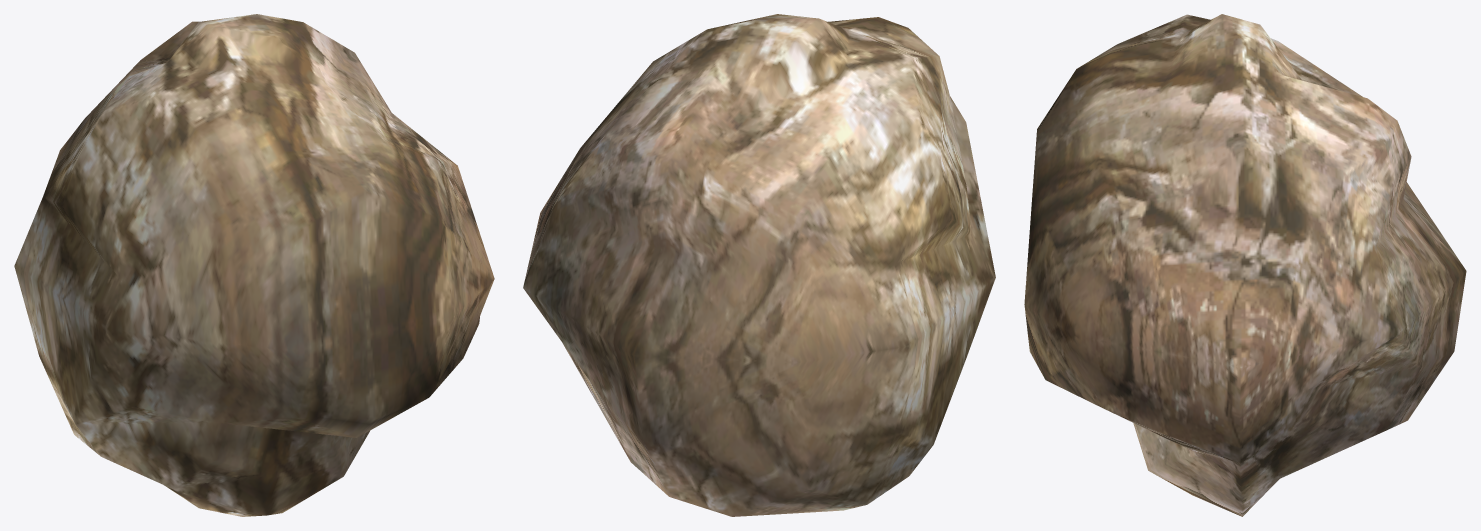
The model's file is thm_tato_cave_rock_lrg_l0.fbx.
3 renders of one model, left to right at view 1: azimuth 30°, elevation 25°; view 2: azimuth 150°, elevation 25°; view 3: azimuth 270°, elevation 25°, orthographic. The views are drawn at different scales.
Parts seen in each view (by area): view 1: mesh_node; view 2: mesh_node; view 3: mesh_node.
Boxes of the visible parts, x1=… form: mesh_node: x1=14, y1=14, x2=494, y2=516; mesh_node: x1=523, y1=14, x2=995, y2=516; mesh_node: x1=1024, y1=14, x2=1466, y2=516.
Bounding box in the file's own units: 1.99 × 2.28 × 1.98.
Materials: 1 (1 with a texture image).
